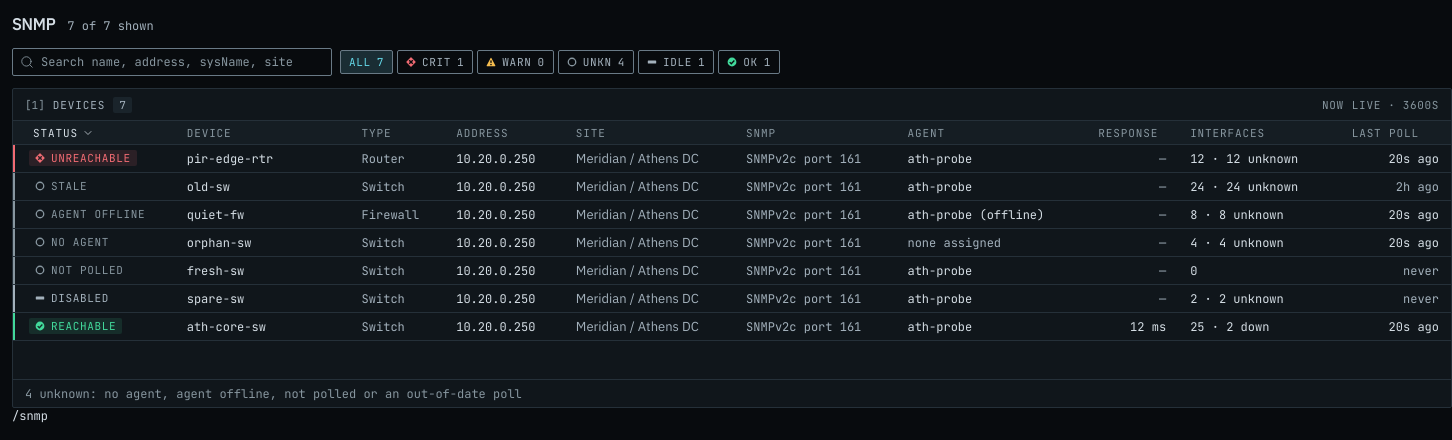
empty, error and provenance › keeps the last good rows under a banner when only a refresh fails
Click the button "CRIT 1": (435, 62) [397,50,473,74]
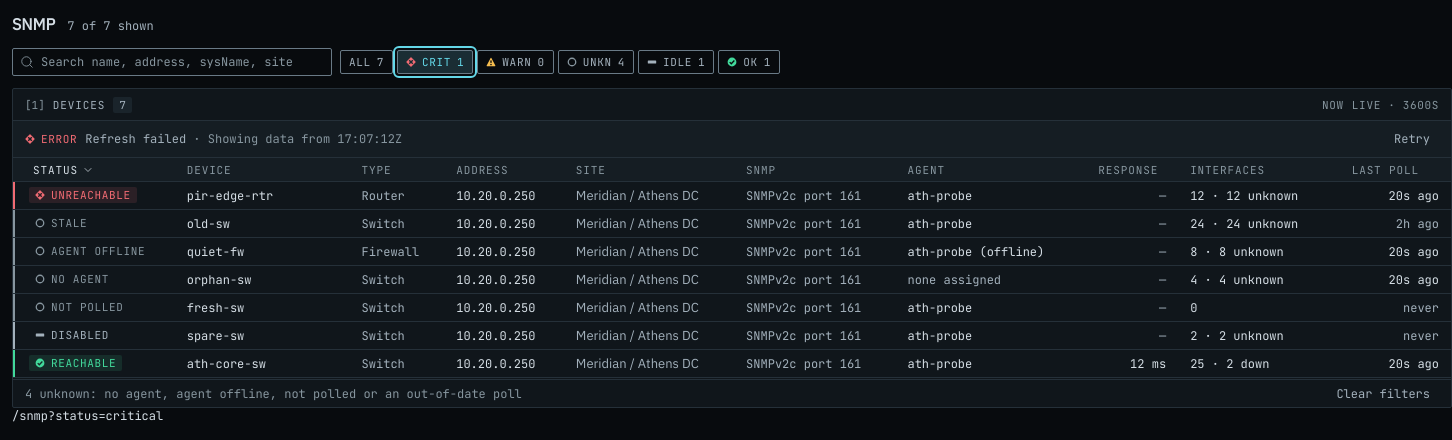
Expected: the table named "SNMP devices" is shown, [13,158,1451,378]
Now the text "Refresh failed" is shown, box [85,131,186,147]
